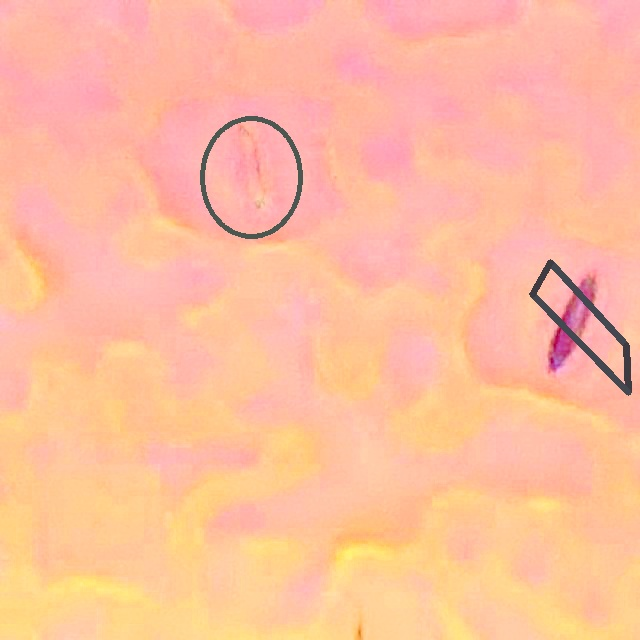open: (530, 259, 628, 394), (199, 115, 303, 239)
